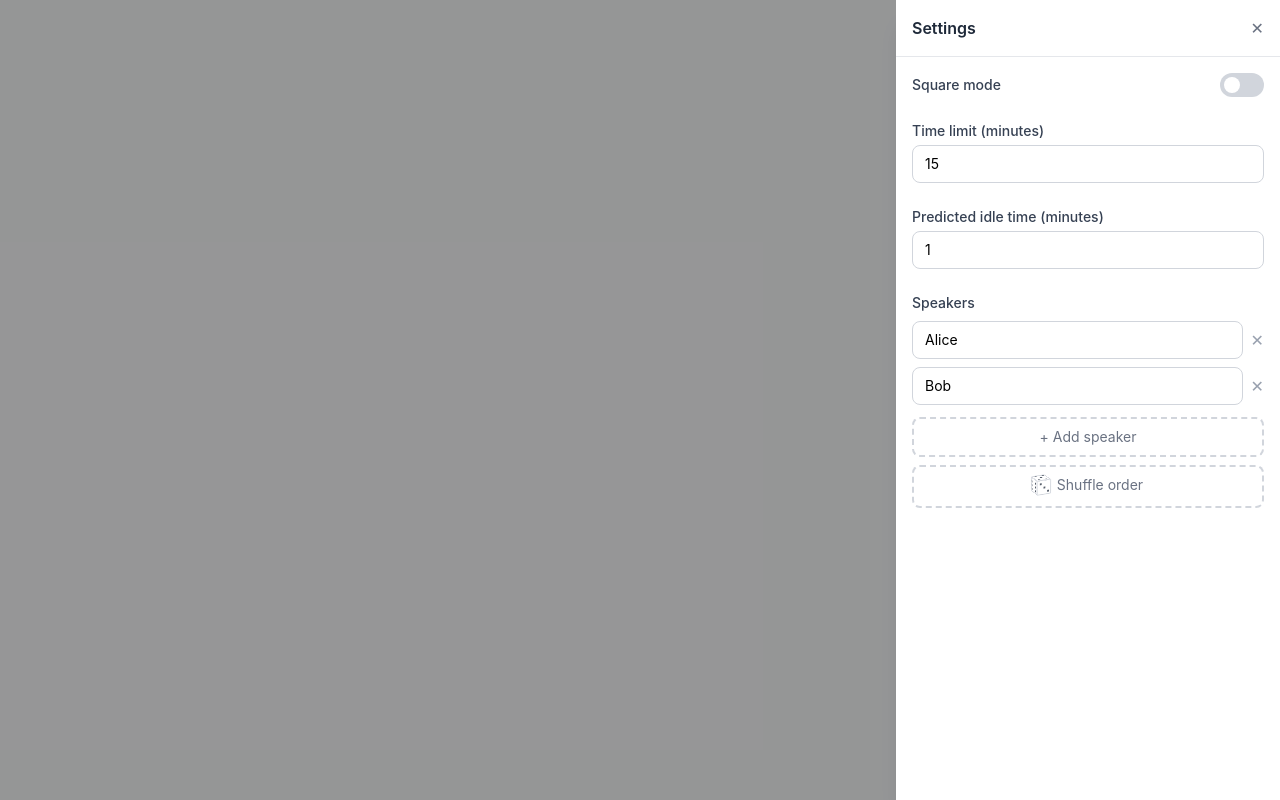
Scenario: disables the shuffle button and shows the big dice overlay while shuffling, without reordering yet
Click the button "Shuffle order" at (1088,486), box [912,465,1264,508]
Wait 1500 ms
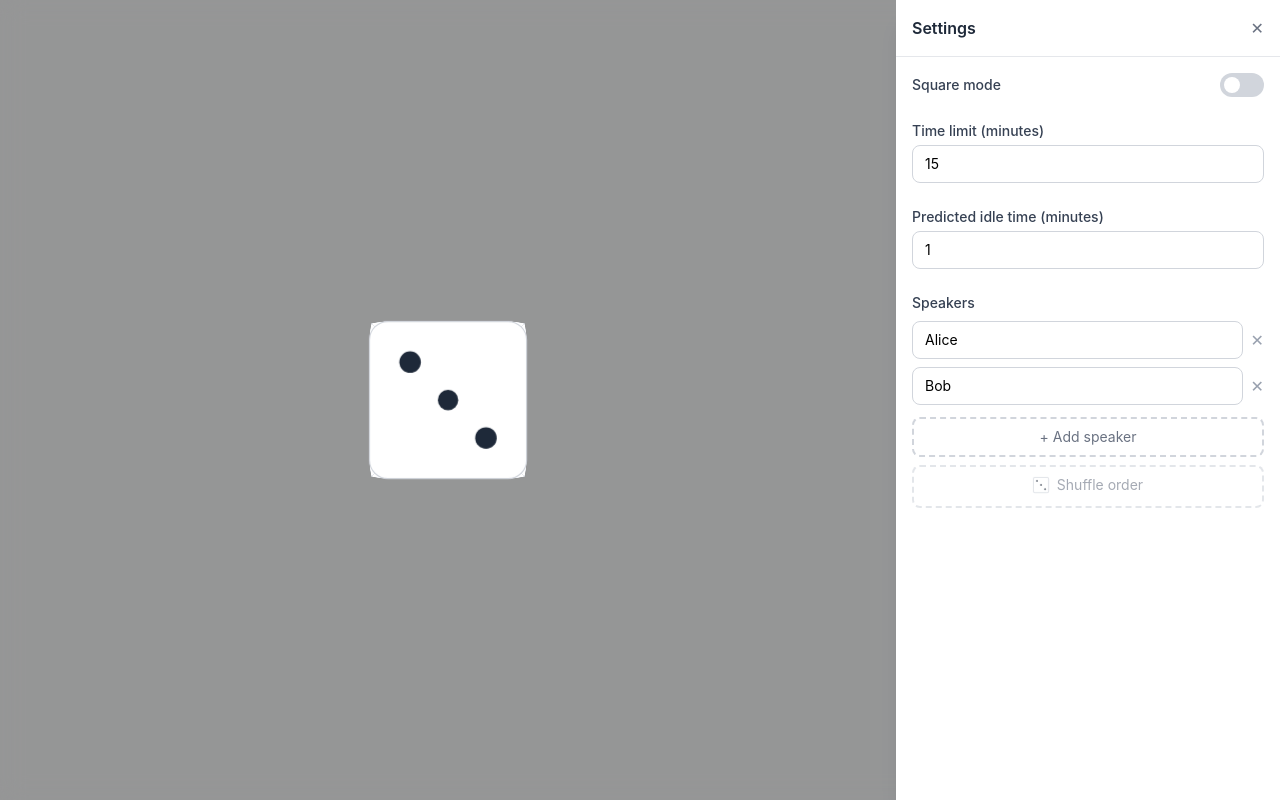
Expected: the number of elements with test id "dice-3d" is 2, [378,330,518,470]; [1033,477,1049,493]
Expected: the button "Shuffle order" is disabled, [912,465,1264,508]
